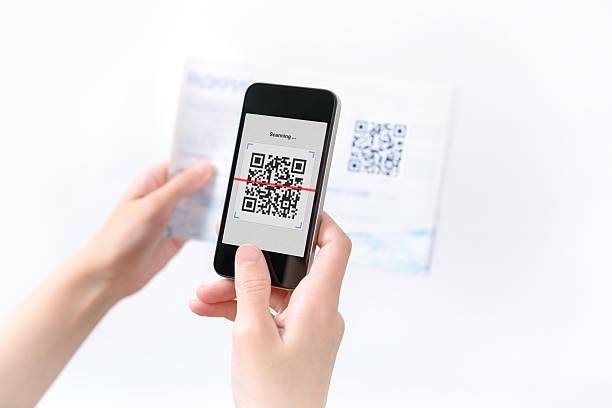Finder pattern: (288, 157, 311, 178), (343, 156, 365, 176), (248, 151, 267, 171), (390, 123, 411, 141), (238, 196, 259, 214), (355, 118, 372, 134)
